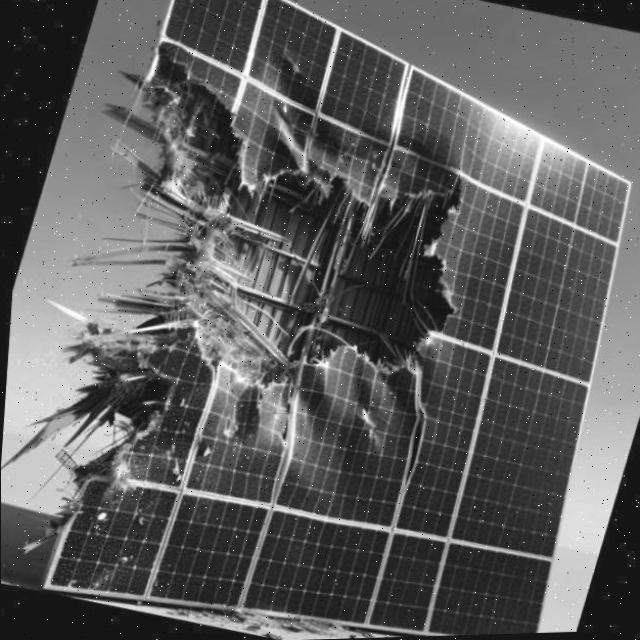Anomaly Solar Panel: (41, 0, 640, 639)
Structural Damage: (61, 38, 494, 564)
